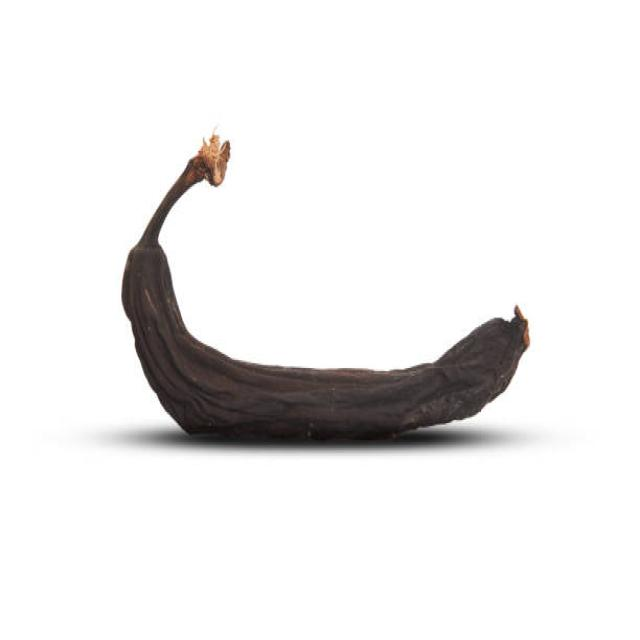Rotten: (120, 138, 529, 444)
